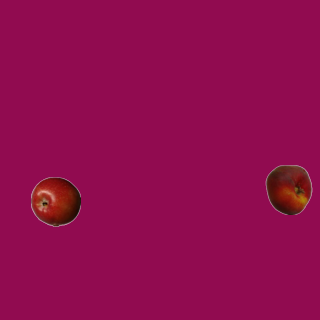Apple Braeburn: (30, 176, 80, 226)
Nectarine Flat: (263, 164, 313, 214)
